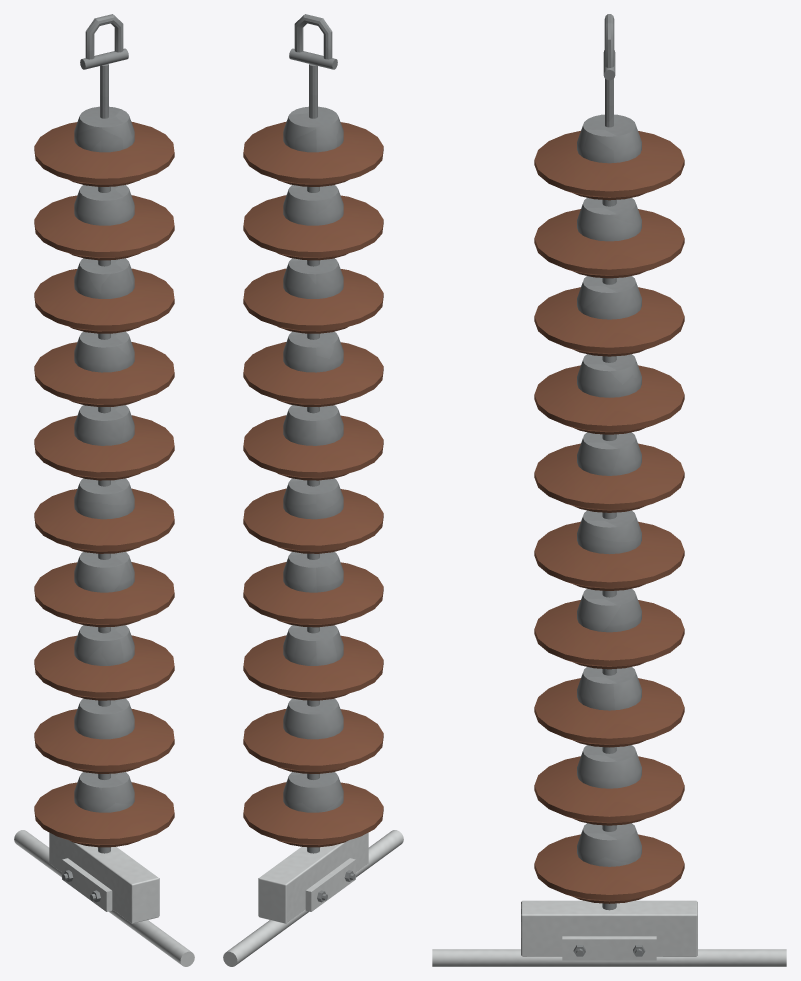
The model's file is InsulatorString_138kV_Single.fbx.
3 views of the same model, side by side, from view 1: azimuth 30°, elevation 25°; view 2: azimuth 150°, elevation 25°; view 3: azimuth 270°, elevation 25° (orthographic). The views are drawn at different scales.
Visible parts, largest first — view 1: Body_PorcelainBrown_LOD0, Body_GalvanizedSteel_LOD0, Body_Aluminium_LOD0; view 2: Body_PorcelainBrown_LOD0, Body_GalvanizedSteel_LOD0, Body_Aluminium_LOD0; view 3: Body_PorcelainBrown_LOD0, Body_GalvanizedSteel_LOD0, Body_Aluminium_LOD0.
Part boxes in pixels (<box>): Body_PorcelainBrown_LOD0: <box>34,121,174,847</box>; Body_GalvanizedSteel_LOD0: <box>62,14,134,902</box>; Body_Aluminium_LOD0: <box>14,830,194,966</box>; Body_PorcelainBrown_LOD0: <box>243,121,383,847</box>; Body_GalvanizedSteel_LOD0: <box>283,14,355,902</box>; Body_Aluminium_LOD0: <box>223,830,403,966</box>; Body_PorcelainBrown_LOD0: <box>534,131,684,903</box>; Body_GalvanizedSteel_LOD0: <box>573,14,645,956</box>; Body_Aluminium_LOD0: <box>432,900,786,966</box>.
Size of what is drawn, in the model's own units: 0.254 by 1.77 by 0.6.
